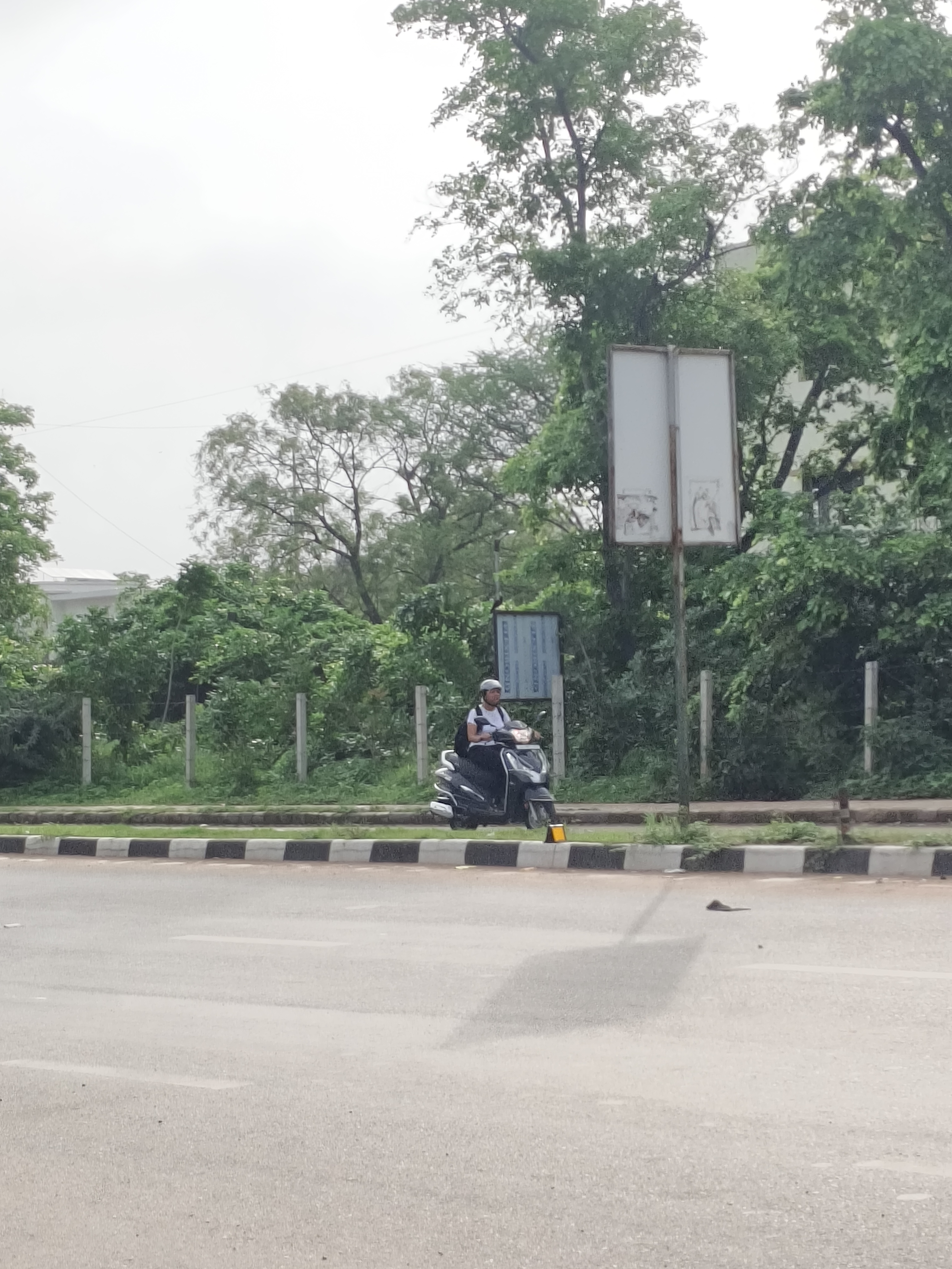BikeWithRider: (424, 674, 563, 834)
Helmet: (474, 676, 506, 709)
